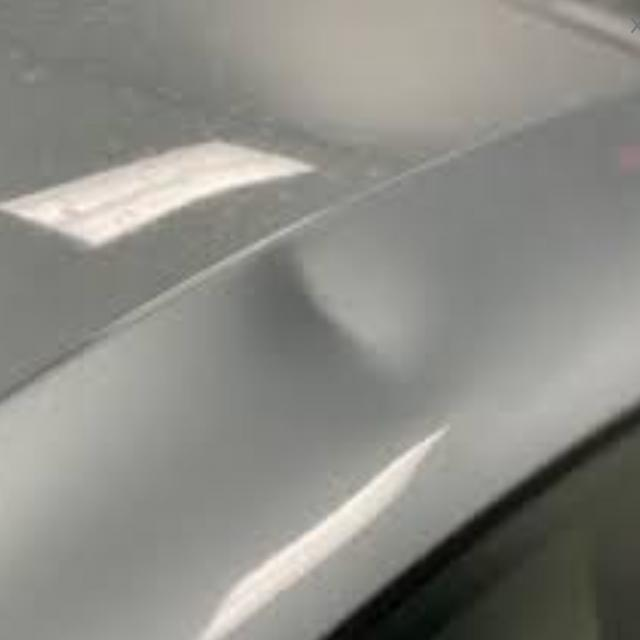dents: (280, 224, 446, 410)
